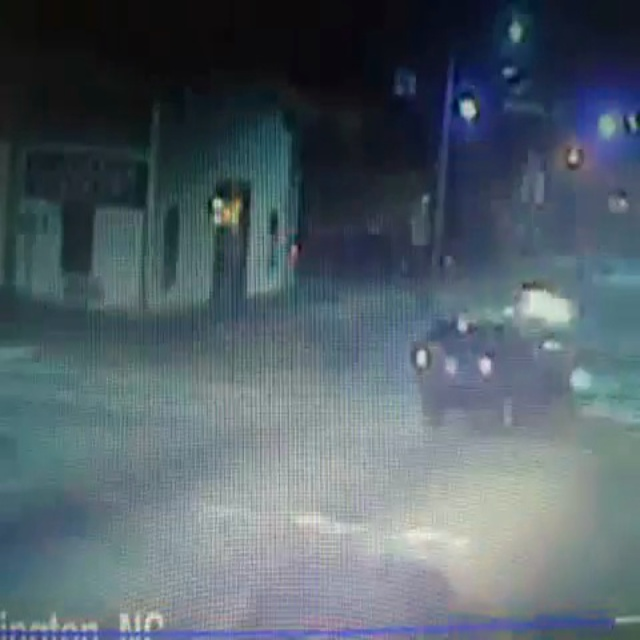acc: (391, 276, 587, 427)
